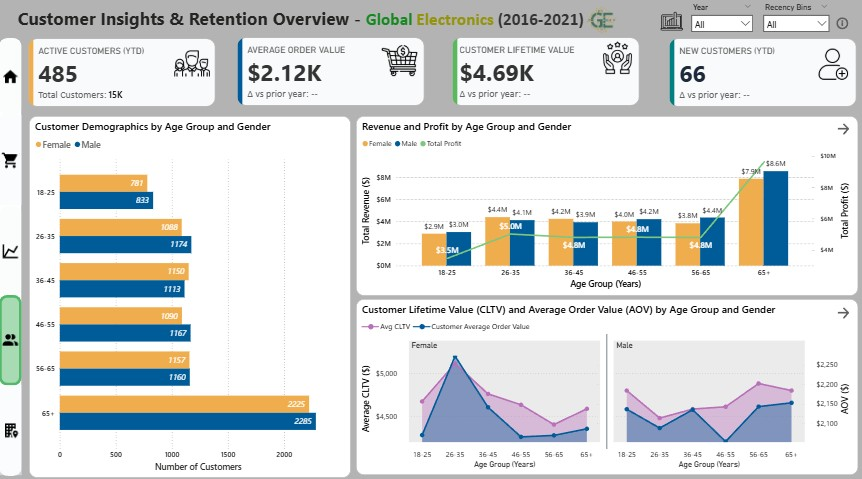

Layout of this report page (visuals, bound fields, positions):
{"tool":"powerbi","page":{"name":"Customers","canvas":[1600,900],"ordinal":3},"visuals":[{"type":"textbox","box":[30,10,1062.5,60],"z":0},{"type":"cardVisual","fields":{"Data":["customers.Customer Average Order Value"]},"box":[430,57.5,370,150],"z":0,"group":"g2"},{"type":"cardVisual","fields":{"Data":["customers.Avg CLTV"]},"box":[827.5,57.5,370,150],"z":0,"group":"g3"},{"type":"cardVisual","fields":{"Data":["customers.Active Customers YTD"]},"box":[41.7,60,370,150],"z":0,"group":"g1"},{"type":"cardVisual","fields":{"Data":["customers.New Customers YTD"]},"box":[1230,60,370,150],"z":0,"group":"g4"},{"type":"shape","box":[0,70,42,811],"z":0,"group":"g7"},{"type":"lineClusteredColumnComboChart","title":"Revenue and Profit by Age Group and Gender","fields":{"Y":["sales_final.Total Revenue"],"Y2":["sales_final.Total Profit"],"Series":["customers.Gender"],"Category":["customers.Age Group"]},"box":[662,214,930,332.5],"z":0,"group":"g5"},{"type":"lineChart","title":"Customer Acquisition and Retention Trends Over Time","fields":{"Category":["Calendar.Year"],"Y":["customers.Active Customers YTD","customers.New Customers YTD","customers.Returning Customers YTD"]},"box":[661.1,553.7,918.5,325.9],"z":0,"group":"g6"},{"type":"image","box":[1072.1,7.9,85.7,60],"z":1000},{"type":"image","box":[1107.1,64.9,75.9,83.3],"z":1000,"group":"g3"},{"type":"image","box":[704.1,70.5,75.9,83.3],"z":1000,"group":"g2"},{"type":"image","box":[1506.3,78.6,75.7,82.9],"z":1000,"group":"g4"},{"type":"image","box":[318.2,80.4,77.8,75.9],"z":1000,"group":"g1"},{"type":"actionButton","box":[0,212.9,42,167.5],"z":1000,"group":"g7"},{"type":"actionButton","box":[1549.3,223.1,33.6,30],"z":1000,"group":"g5"},{"type":"actionButton","box":[1536.5,563,33.2,30],"z":1000,"group":"g6"},{"type":"image","title":"More_visuals","box":[1221.2,11.2,51.2,56.2],"z":1125},{"type":"group","id":"g1","title":"Card_1","box":[41.7,60,370,150],"z":1250},{"type":"group","id":"g2","title":"Card_2","box":[430,57.5,370,150],"z":1375},{"type":"group","id":"g3","title":"Card_3","box":[827.5,57.5,370,150],"z":1500},{"type":"group","id":"g4","title":"Card_4","box":[1230,60,370,150],"z":1750},{"type":"clusteredBarChart","title":"Customer Demographics by Age Group and Gender","fields":{"Y":["customers.Total Customers"],"Series":["customers.Gender"],"Category":["customers.Age Group"]},"box":[55.7,214.3,595.7,670],"z":2000},{"type":"actionButton","box":[0,380.3,42,167.5],"z":2000,"group":"g7"},{"type":"actionButton","box":[1546.4,28.2,33.6,30.9],"z":3000},{"type":"actionButton","box":[0,713.4,42,167.5],"z":3000,"group":"g7"},{"type":"group","id":"g5","title":"Chart 1","box":[662,214,930,332],"z":4000},{"type":"actionButton","box":[0,545.9,42,167.5],"z":4000,"group":"g7"},{"type":"actionButton","box":[0,70,42,144],"z":4500,"group":"g7"},{"type":"group","id":"g6","title":"Chart 4","box":[661.1,553.7,918.5,325.9],"z":7000},{"type":"group","id":"g7","title":"Page_nav","box":[0,70,42,811],"z":7500},{"type":"slicer","fields":{"Values":["Calendar.Year"]},"box":[1272,0,134,68],"z":11000},{"type":"slicer","fields":{"Values":["customers.Recency Bins"]},"box":[1406,0,142,68],"z":12000}]}

Visuals, with their boxes on the page's 1600x900 design canvas (x1, y1, x2, y2). These are canvas units, not pixel positions in the 862x479 screenshot, which may show the page scaled, cropped or inside an application window:
textbox: (30,10,1092,70)
cardVisual - customers.Customer Average Order Value: (430,58,800,208)
cardVisual - customers.Avg CLTV: (828,58,1198,208)
cardVisual - customers.Active Customers YTD: (42,60,412,210)
cardVisual - customers.New Customers YTD: (1230,60,1600,210)
shape: (0,70,42,881)
"Revenue and Profit by Age Group and Gender" lineClusteredColumnComboChart: (662,214,1592,546)
"Customer Acquisition and Retention Trends Over Time" lineChart: (661,554,1580,880)
image: (1072,8,1158,68)
image: (1107,65,1183,148)
image: (704,70,780,154)
image: (1506,79,1582,162)
image: (318,80,396,156)
actionButton: (0,213,42,380)
actionButton: (1549,223,1583,253)
actionButton: (1536,563,1570,593)
"More_visuals" image: (1221,11,1272,67)
"Card_1" group: (42,60,412,210)
"Card_2" group: (430,58,800,208)
"Card_3" group: (828,58,1198,208)
"Card_4" group: (1230,60,1600,210)
"Customer Demographics by Age Group and Gender" clusteredBarChart: (56,214,651,884)
actionButton: (0,380,42,548)
actionButton: (1546,28,1580,59)
actionButton: (0,713,42,881)
"Chart 1" group: (662,214,1592,546)
actionButton: (0,546,42,713)
actionButton: (0,70,42,214)
"Chart 4" group: (661,554,1580,880)
"Page_nav" group: (0,70,42,881)
slicer - Calendar.Year: (1272,0,1406,68)
slicer - customers.Recency Bins: (1406,0,1548,68)
